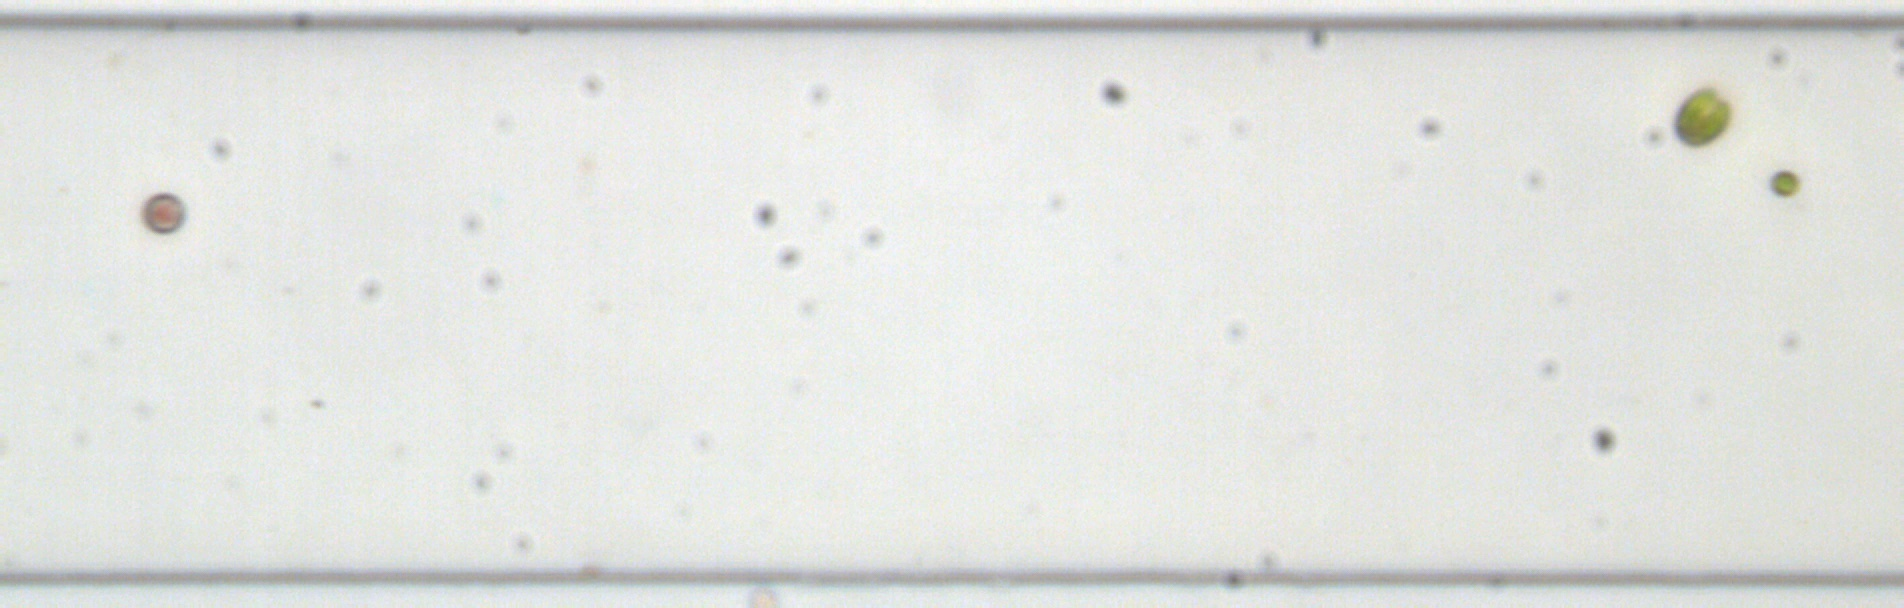Chlorella: (1764, 166, 1801, 199)
Platymonas: (1668, 80, 1738, 147)
Porphyridium: (138, 191, 188, 235)
